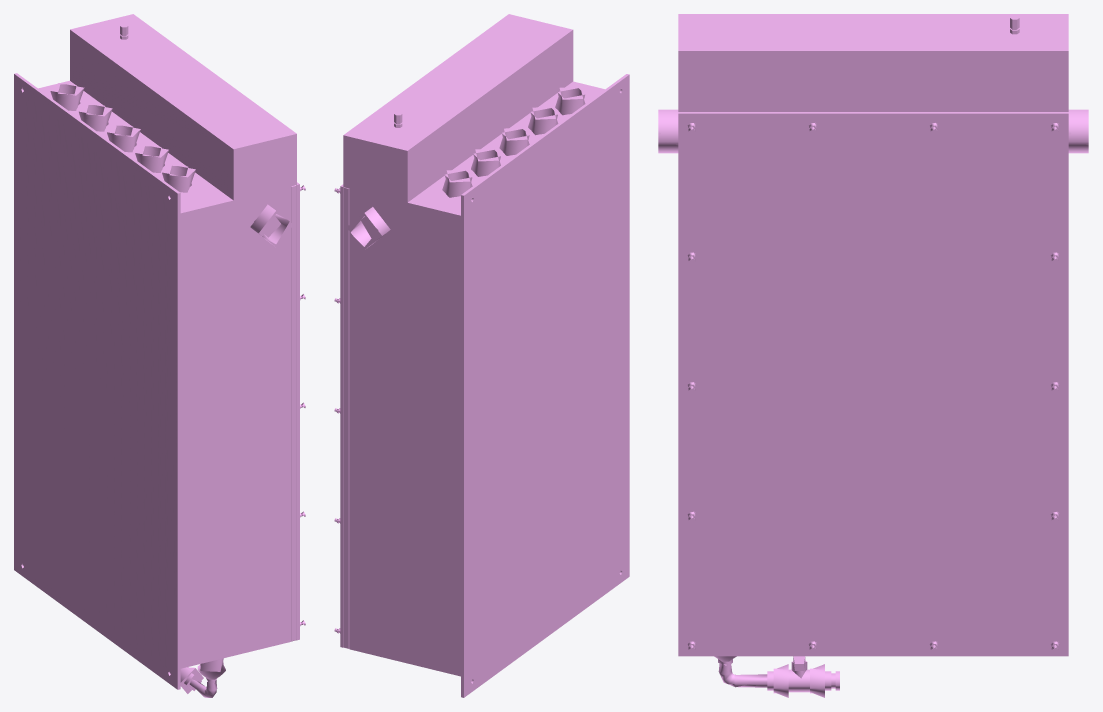
The model's file is CMVB.gltf.
The picture shows the model from 3 angles, left to right: view 1: azimuth 30°, elevation 25°; view 2: azimuth 150°, elevation 25°; view 3: azimuth 270°, elevation 25°; orthographic projection. The views are drawn at different scales.
Visible parts, largest first — view 1: VMB BOX.003; view 2: VMB BOX.003; view 3: VMB BOX.003.
Boxes of the visible parts, left/top/right/bottom form: VMB BOX.003: left=14, top=14, right=305, bottom=697; VMB BOX.003: left=334, top=14, right=629, bottom=697; VMB BOX.003: left=658, top=14, right=1088, bottom=697.
Size of the model in its own units: 0.2703 by 1.14 by 0.64.
